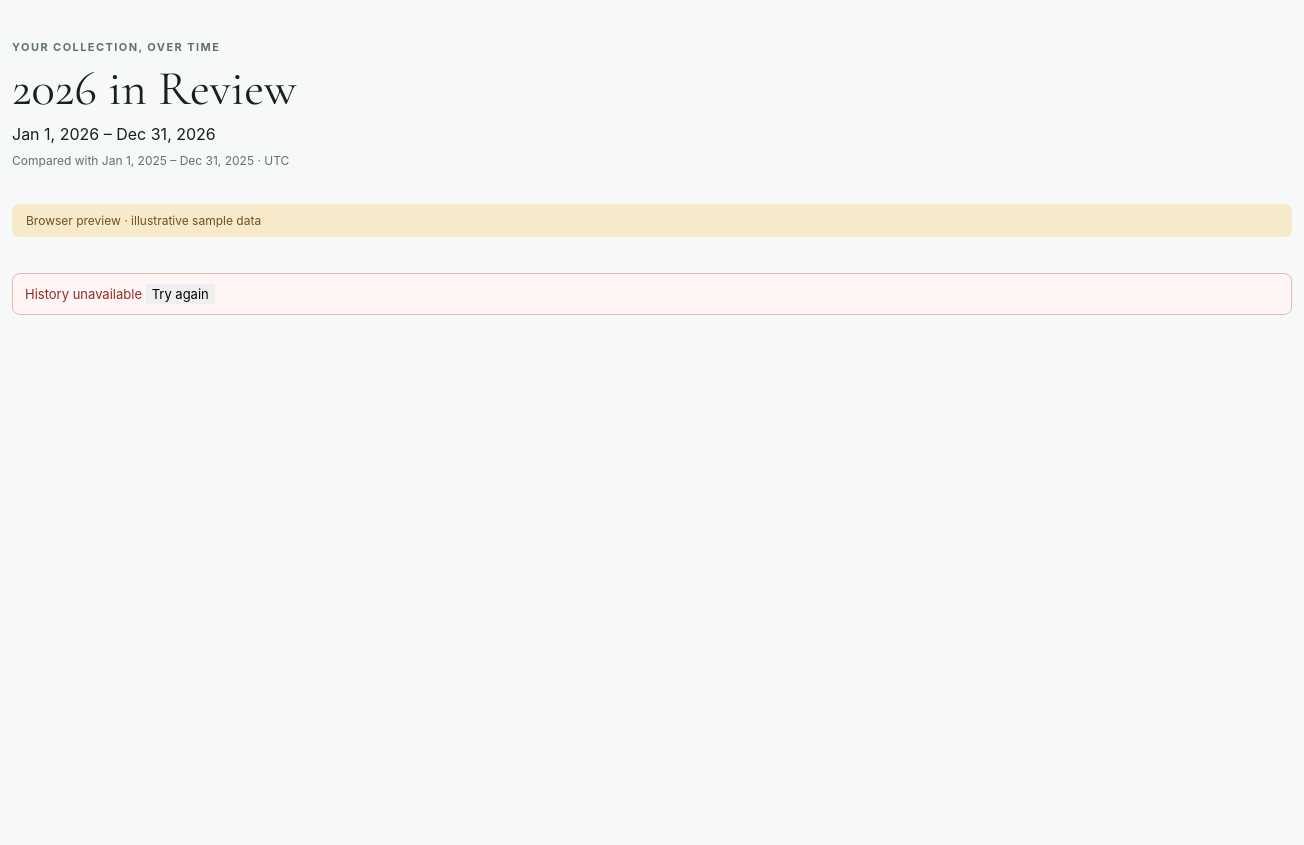
Test: reports errors and retries without leaving a loading screen
Expected: the message shows "History unavailable", [25,286,142,302]
Click the button "Try again".
click(180, 294)  # box [146,284,215,304]
(page scrolled)
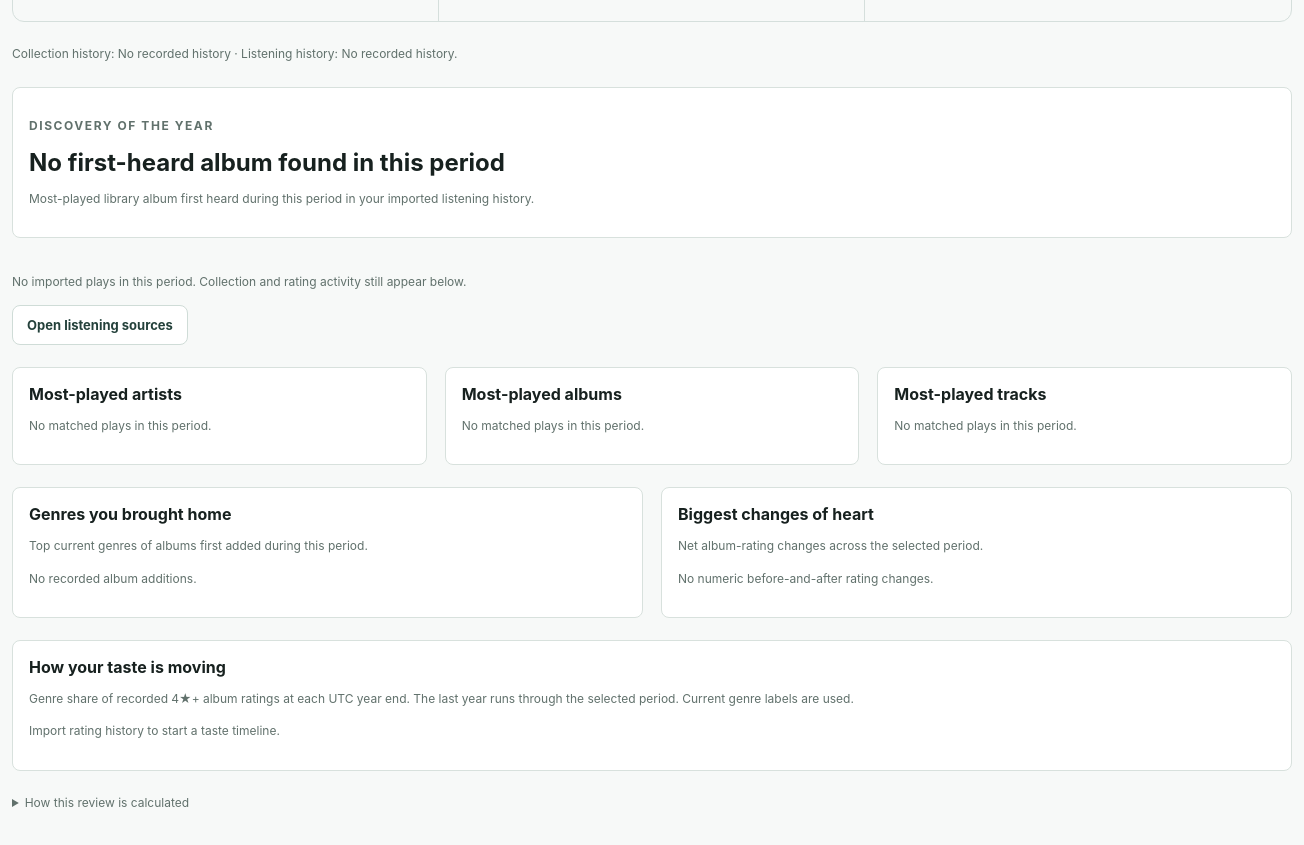
Expected: the text "No recorded album additions." is shown, [29,571,197,586]
Expected: the message "History unavailable Try again" is gone
